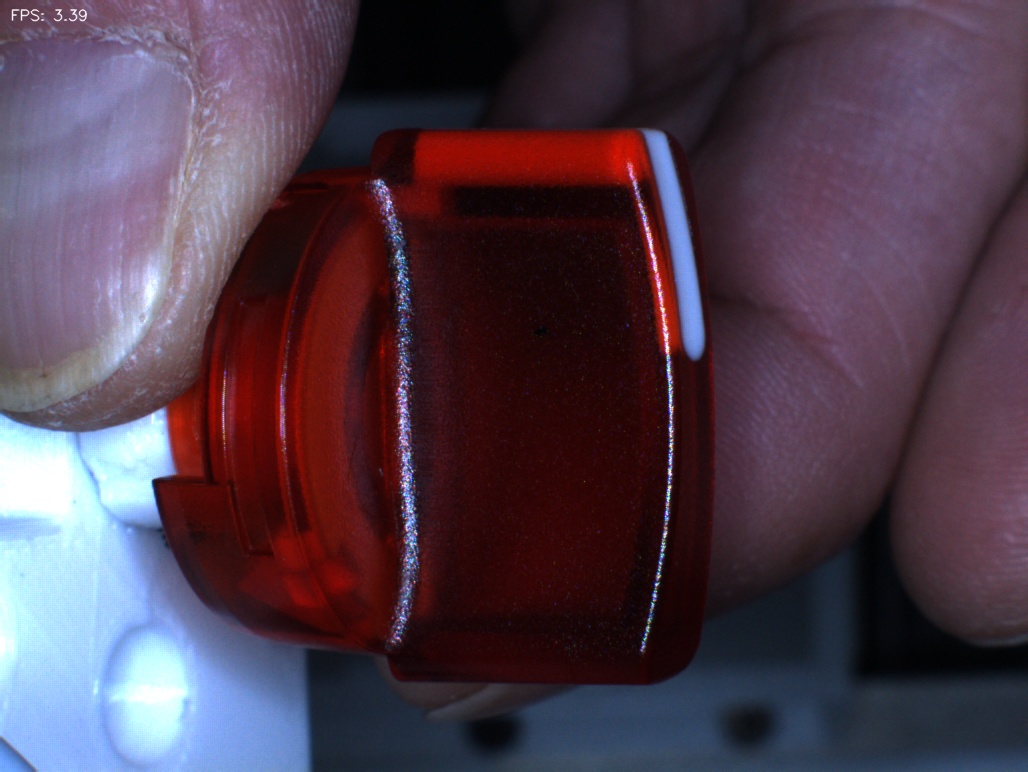PointNoir: (497, 287, 588, 372)
